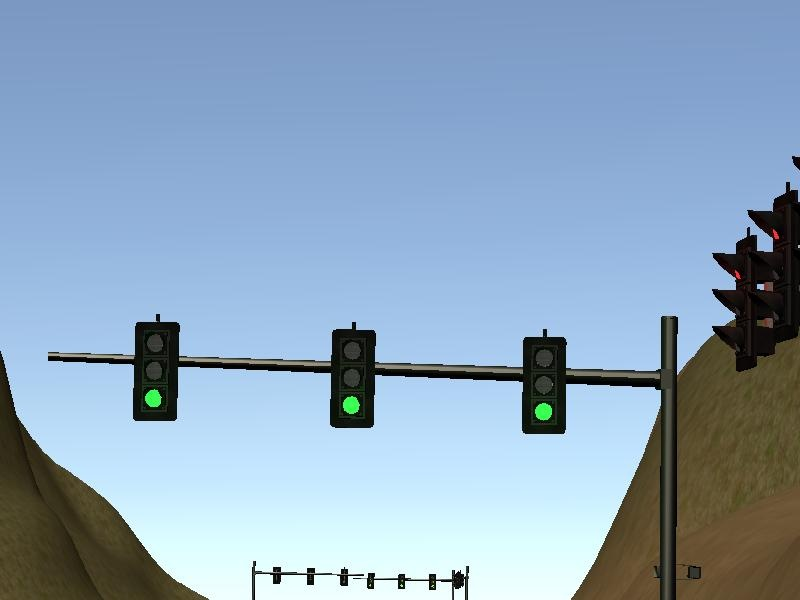green: (131, 317, 184, 427), (517, 329, 569, 441), (328, 321, 380, 431)
